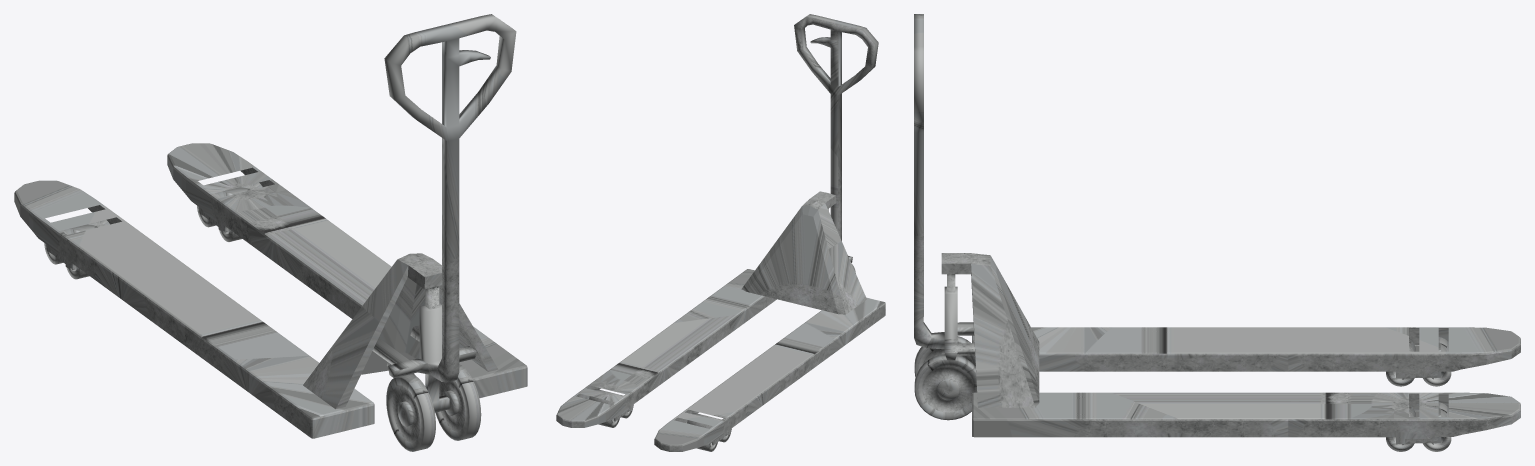
3 views of the same model, side by side, from view 1: azimuth 30°, elevation 25°; view 2: azimuth 150°, elevation 25°; view 3: azimuth 270°, elevation 25° (orthographic). The views are drawn at different scales.
Visible parts, largest first — view 1: defaultMaterial.014, defaultMaterial.001, defaultMaterial.003, defaultMaterial.006, defaultMaterial.002, defaultMaterial.005, defaultMaterial.010, defaultMaterial.013; view 2: defaultMaterial.014, defaultMaterial.001, defaultMaterial.010, defaultMaterial.013; view 3: defaultMaterial.014, defaultMaterial.001, defaultMaterial.005, defaultMaterial.006, defaultMaterial.010, defaultMaterial.013.
Boxes of the visible parts, x1=… form: defaultMaterial.014: x1=14, y1=143, x2=527, y2=438; defaultMaterial.001: x1=372, y1=14, x2=516, y2=412; defaultMaterial.003: x1=386, y1=374, x2=435, y2=451; defaultMaterial.006: x1=435, y1=364, x2=481, y2=440; defaultMaterial.002: x1=392, y1=385, x2=420, y2=442; defaultMaterial.005: x1=439, y1=380, x2=465, y2=431; defaultMaterial.010: x1=44, y1=220, x2=109, y2=279; defaultMaterial.013: x1=197, y1=182, x2=262, y2=241; defaultMaterial.014: x1=556, y1=191, x2=885, y2=451; defaultMaterial.001: x1=794, y1=14, x2=878, y2=262; defaultMaterial.010: x1=687, y1=413, x2=731, y2=451; defaultMaterial.013: x1=589, y1=389, x2=633, y2=427; defaultMaterial.014: x1=941, y1=253, x2=1520, y2=444; defaultMaterial.001: x1=914, y1=14, x2=975, y2=366; defaultMaterial.005: x1=922, y1=366, x2=974, y2=412; defaultMaterial.006: x1=914, y1=354, x2=977, y2=420; defaultMaterial.010: x1=1386, y1=337, x2=1451, y2=386; defaultMaterial.013: x1=1386, y1=402, x2=1451, y2=451.
Bounding box in the file's own units: 57.69 × 109 × 160.
5 materials, 5 textured.
